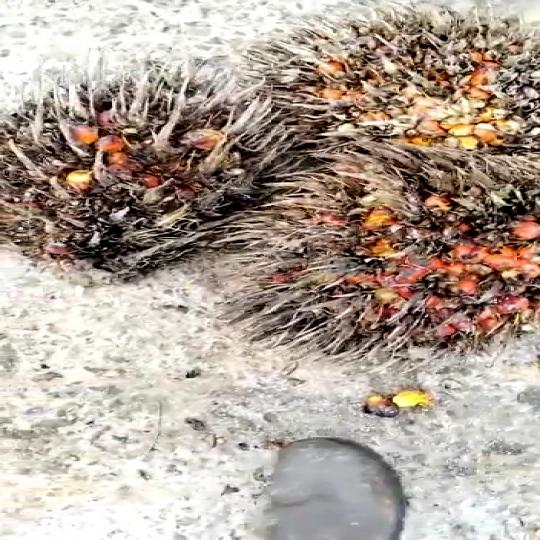terlalu masak: (0, 63, 336, 280), (199, 150, 540, 358), (245, 16, 540, 153)
